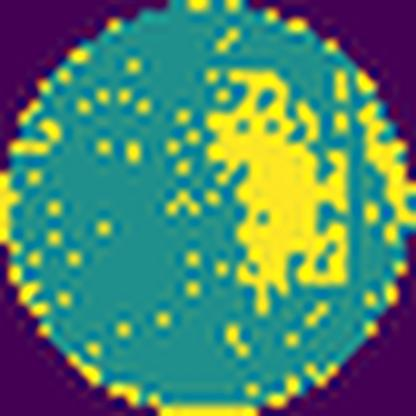Loc: (204, 67, 348, 315)
